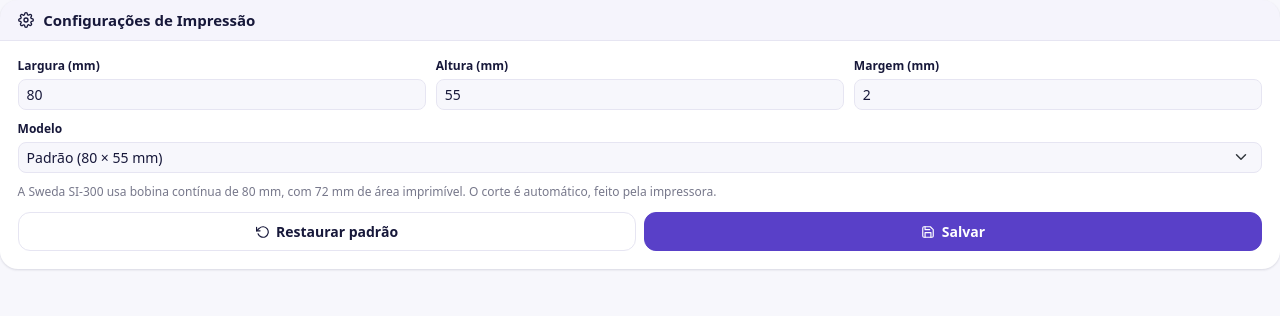
Test case: PrintSettingsPanel — ações › avisa quando a validação bloqueia o salvamento
Click the button "Salvar": (953, 232) x1=644 y1=212 x2=1262 y2=251
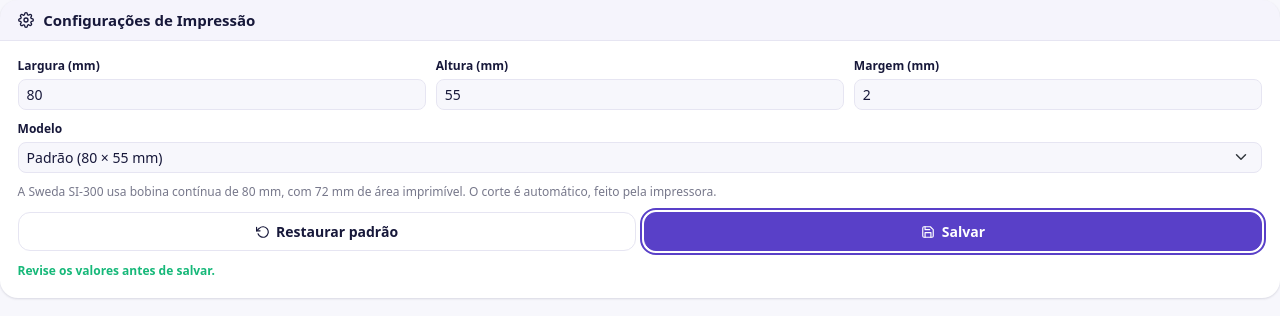
Now the message reads "Revise os valores antes de salvar.", box x1=18 y1=262 x2=215 y2=279
